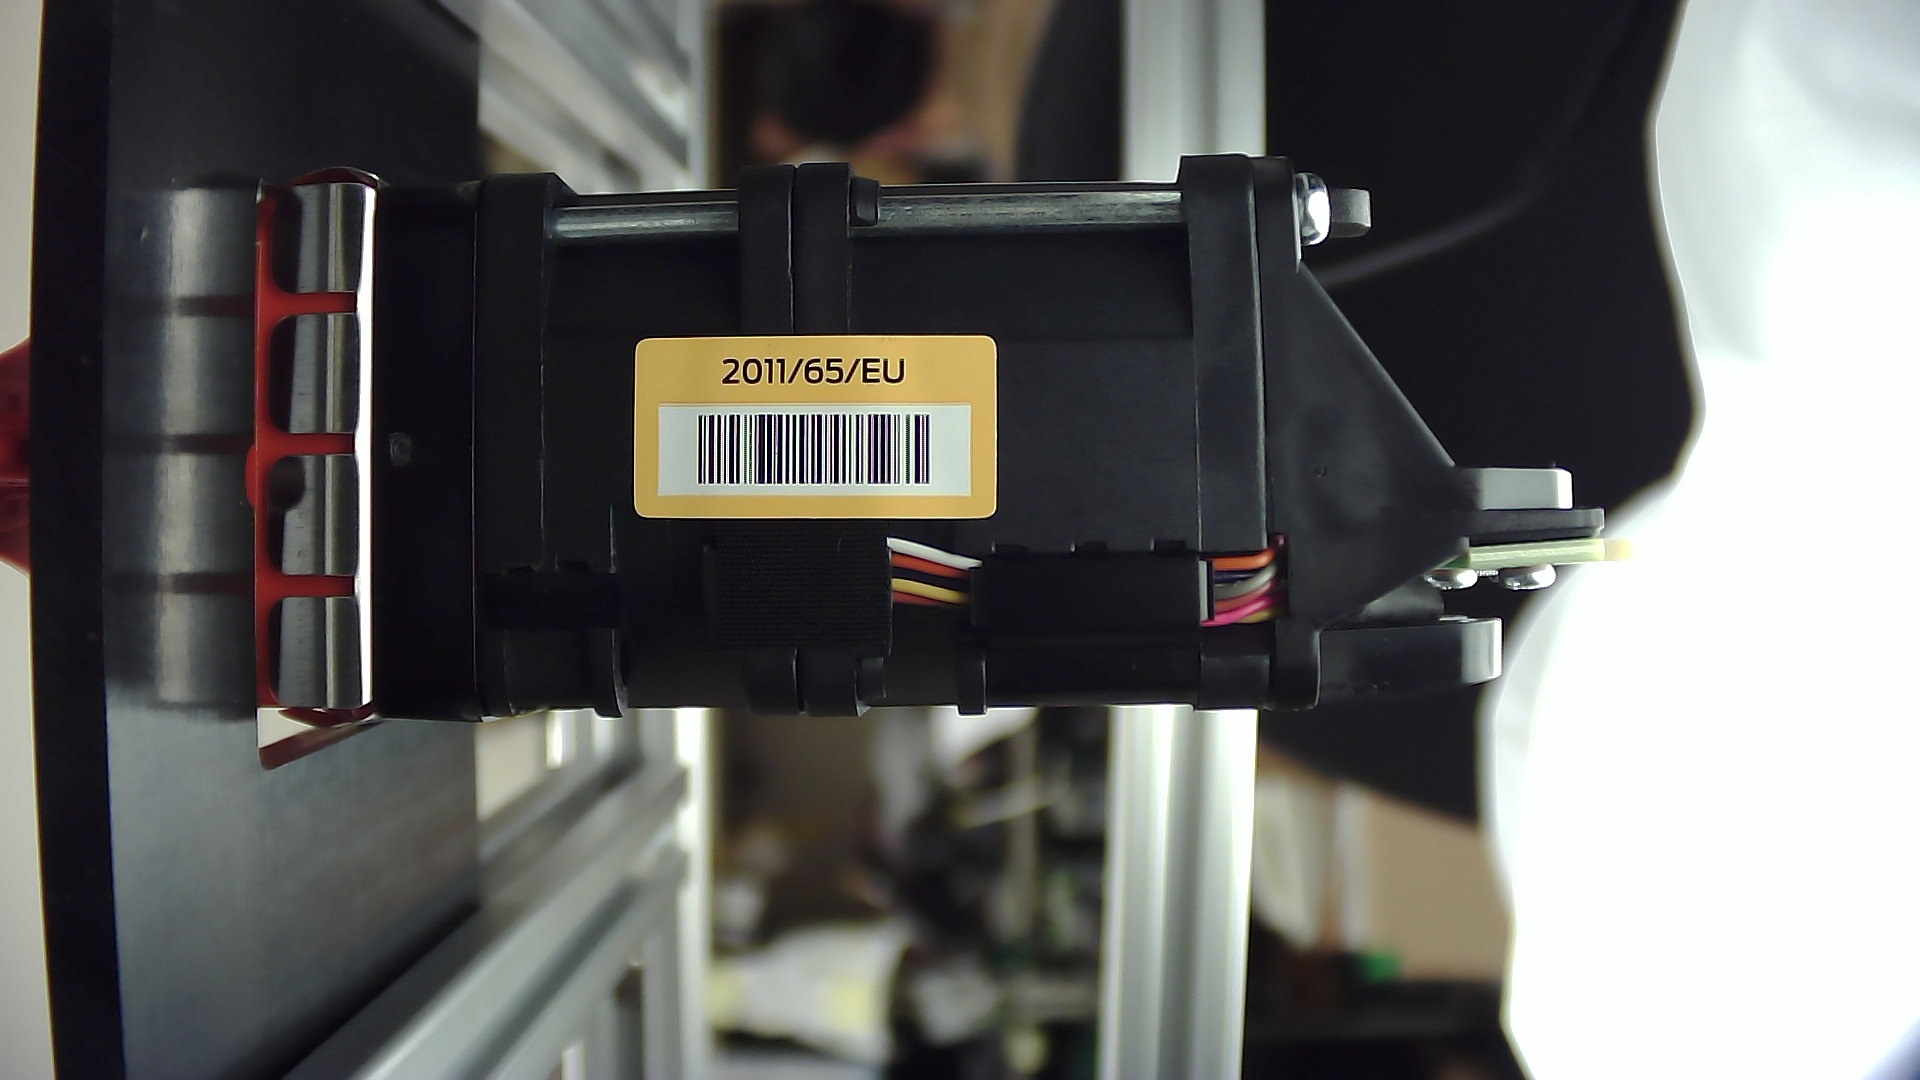8_0: (243, 129, 1654, 827)
